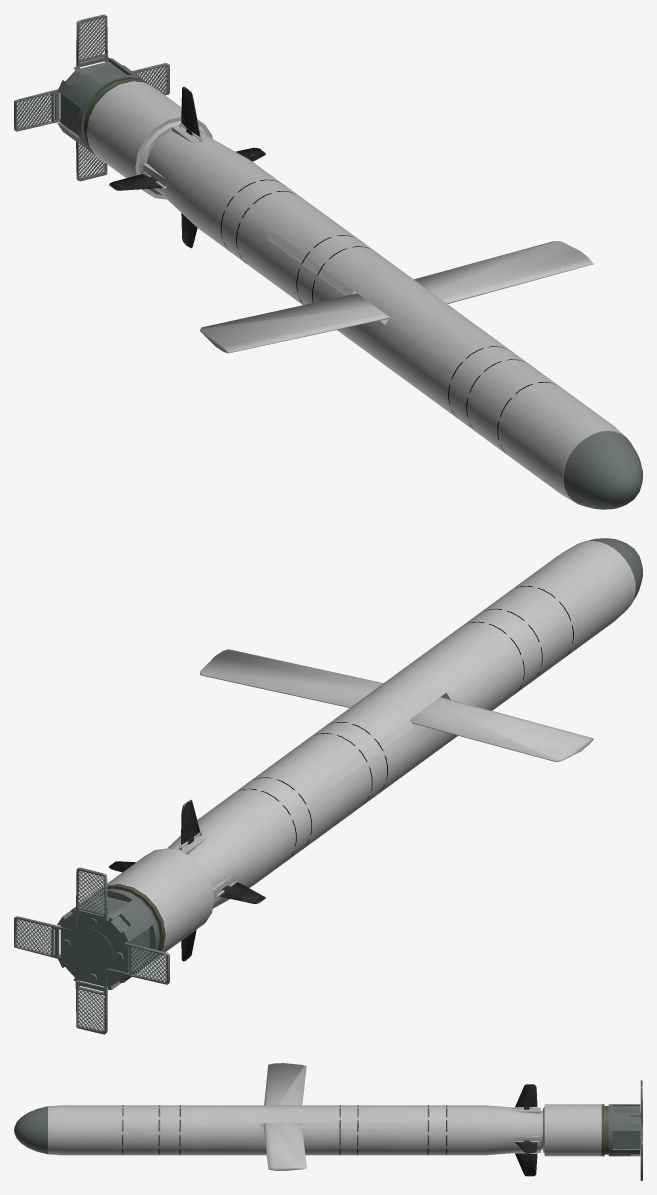
Rendered from kalibr.glb.
The picture shows the model from 3 angles, top to bottom: view 1: azimuth 30°, elevation 25°; view 2: azimuth 150°, elevation 25°; view 3: azimuth 270°, elevation 25°; orthographic projection. The views are drawn at different scales.
Parts seen in each view (by area): view 1: kalibr_kalibr_01_kalibr_0; view 2: kalibr_kalibr_01_kalibr_0; view 3: kalibr_kalibr_01_kalibr_0.
Boxes of the visible parts, bbox=[...] form: kalibr_kalibr_01_kalibr_0: bbox=[14, 14, 642, 509]; kalibr_kalibr_01_kalibr_0: bbox=[14, 538, 642, 1034]; kalibr_kalibr_01_kalibr_0: bbox=[14, 1063, 642, 1180].
Size of the model in its own units: 2.44 by 1.02 by 6.22.
1 material, 1 textured.
